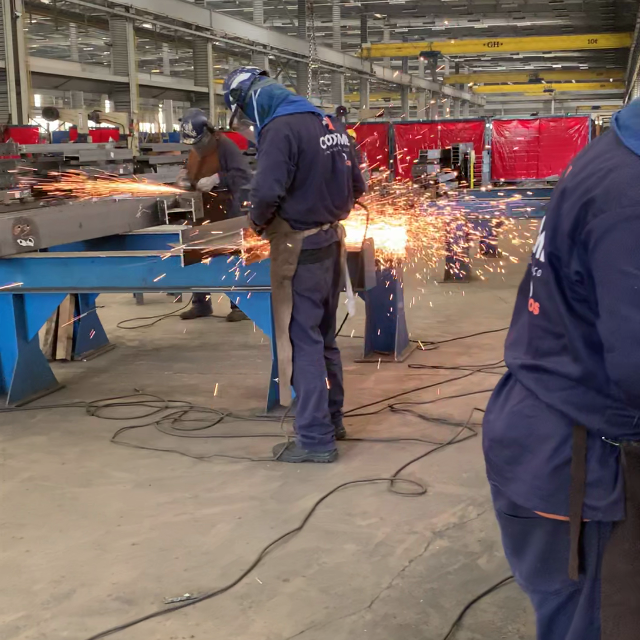person: (219, 64, 366, 464)
safety-shoe: (269, 440, 343, 464)
